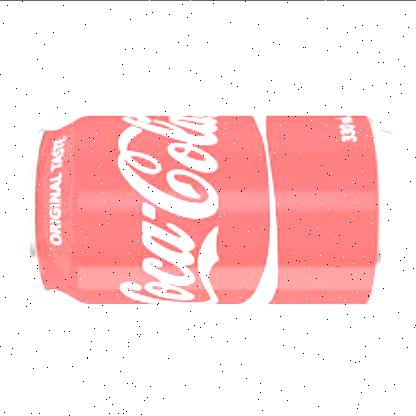Can: (24, 112, 402, 310)
